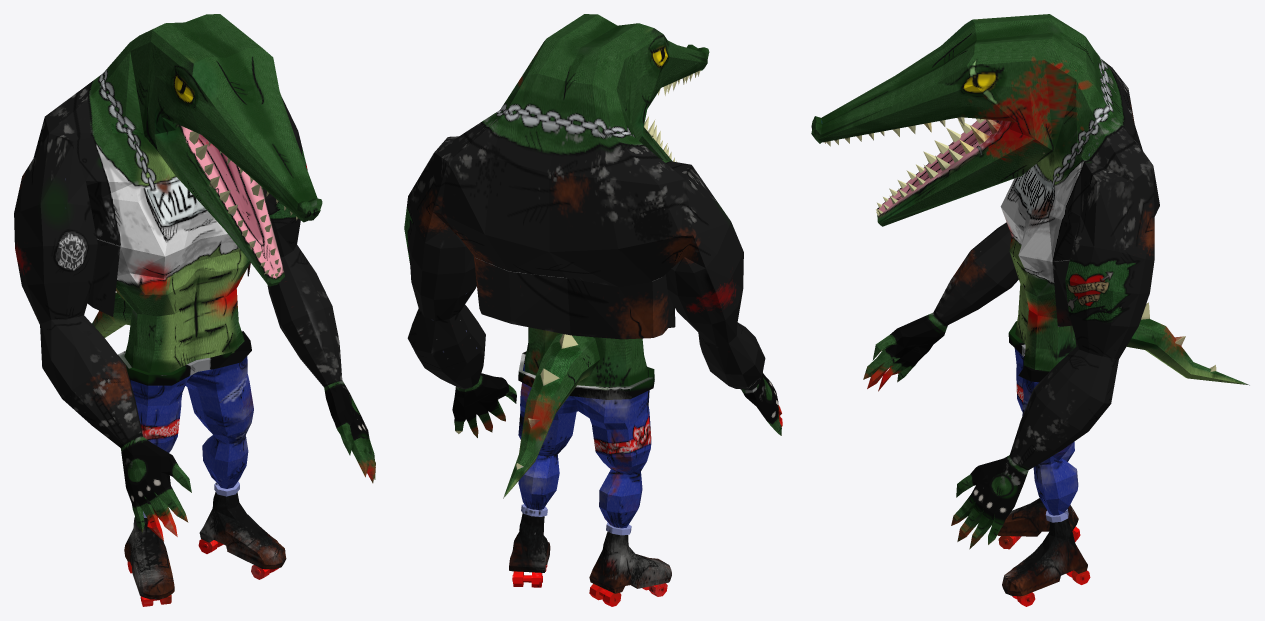
Rendered from cocodrilaBonesSelect_000041.obj.
3 views of the same model, side by side, from view 1: azimuth 30°, elevation 25°; view 2: azimuth 150°, elevation 25°; view 3: azimuth 270°, elevation 25° (orthographic). The views are drawn at different scales.
Parts seen in each view (by area): view 1: Crocodile.002_Cylinder.002; view 2: Crocodile.002_Cylinder.002; view 3: Crocodile.002_Cylinder.002.
Part boxes in pixels (<box>): Crocodile.002_Cylinder.002: <box>14,14,375,606</box>; Crocodile.002_Cylinder.002: <box>404,14,782,606</box>; Crocodile.002_Cylinder.002: <box>811,14,1249,606</box>.
Bounding box in the file's own units: 3.98 × 6.73 × 4.94.
